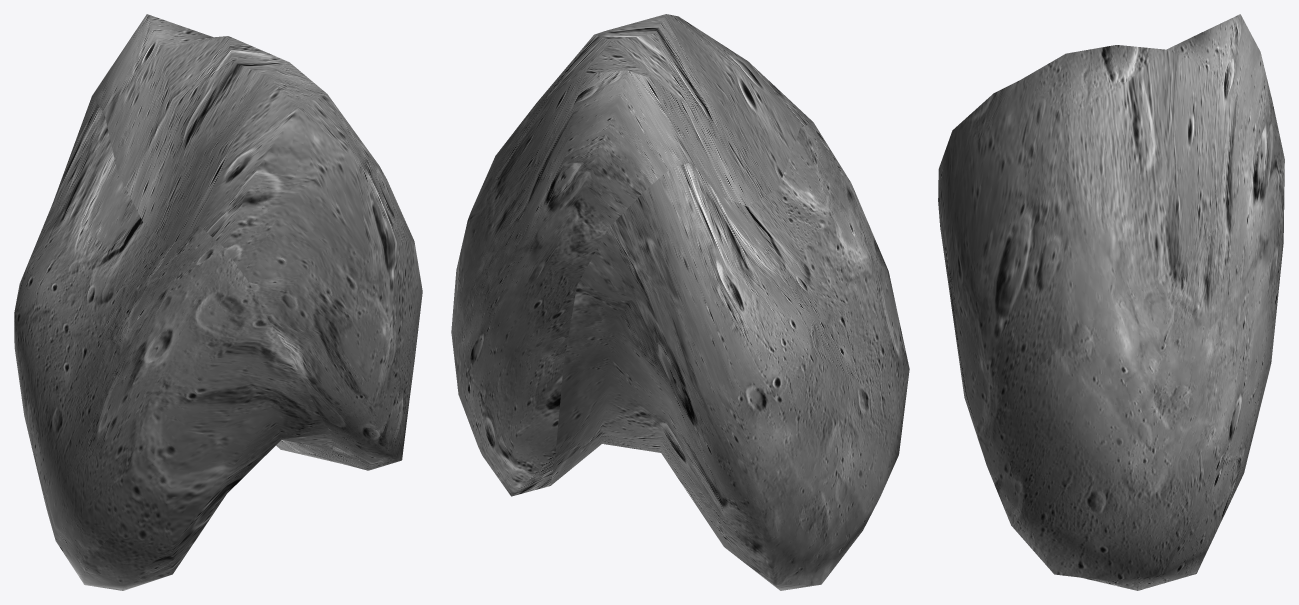
File: asteroid10.FBX
3 views of the same model, side by side, from view 1: azimuth 30°, elevation 25°; view 2: azimuth 150°, elevation 25°; view 3: azimuth 270°, elevation 25° (orthographic). The views are drawn at different scales.
Visible parts, largest first — view 1: Asteroid010; view 2: Asteroid010; view 3: Asteroid010.
Boxes of the visible parts, x1,y1,x2,y2 form: Asteroid010: (14, 14, 422, 590); Asteroid010: (451, 14, 909, 590); Asteroid010: (938, 14, 1284, 590).
Bounding box in the file's own units: 102 × 134 × 74.58.
Materials: 1 (1 with a texture image).
